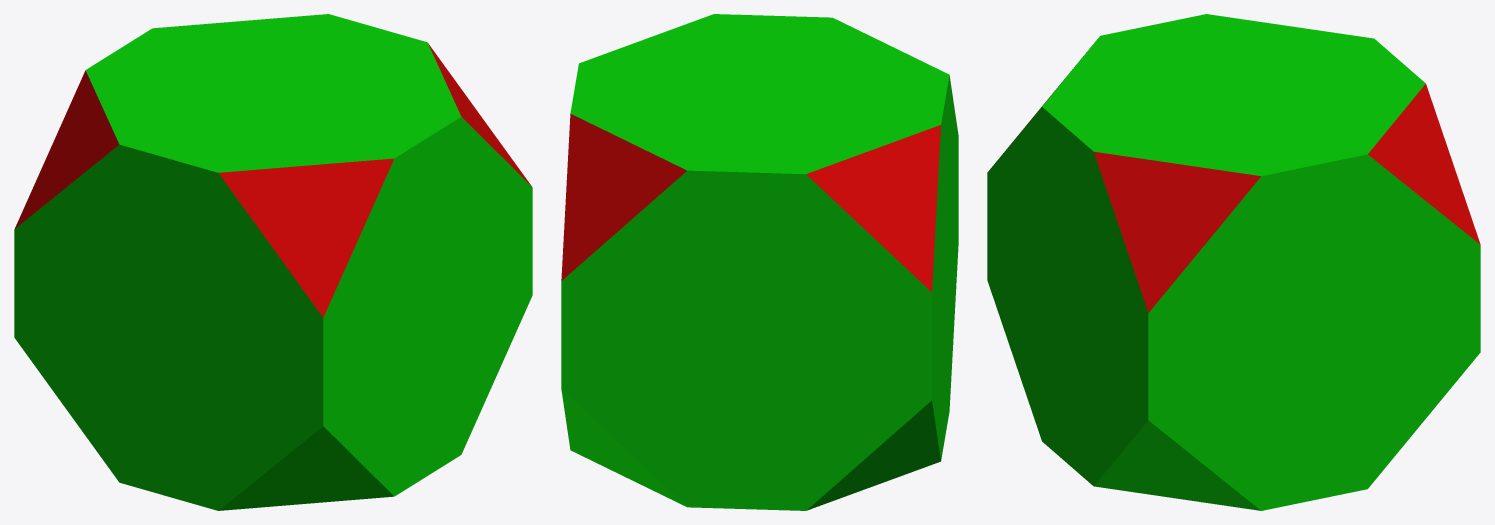
The model's file is anim_cube_000039.obj.
3 renders of one model, left to right at view 1: azimuth 30°, elevation 25°; view 2: azimuth 150°, elevation 25°; view 3: azimuth 270°, elevation 25°, orthographic.
Parts seen in each view (by area): view 1: Cube_Cube.002_Material.002, Cube_Cube.002_Material.001; view 2: Cube_Cube.002_Material.002, Cube_Cube.002_Material.001; view 3: Cube_Cube.002_Material.002, Cube_Cube.002_Material.001.
Boxes of the visible parts, box(x1,y1,x2,y2) form: Cube_Cube.002_Material.002: box(14, 14, 532, 510); Cube_Cube.002_Material.001: box(15, 43, 531, 317); Cube_Cube.002_Material.002: box(561, 14, 958, 510); Cube_Cube.002_Material.001: box(561, 113, 940, 291); Cube_Cube.002_Material.002: box(987, 14, 1480, 510); Cube_Cube.002_Material.001: box(1001, 52, 1480, 312).
Bounding box in the file's own units: 4.14 × 3.09 × 4.14.
